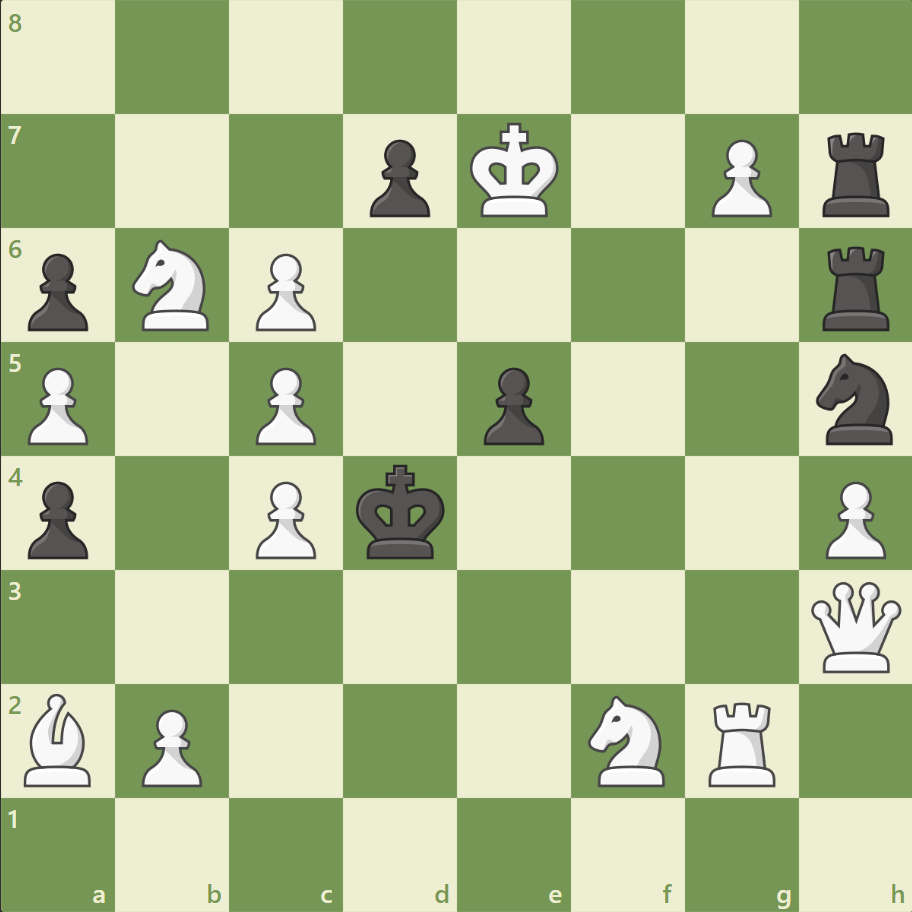B: (17, 687, 101, 790)
K: (465, 117, 565, 225)
N: (124, 234, 222, 337), (579, 688, 676, 791)
P: (701, 132, 776, 223), (247, 246, 322, 337), (20, 359, 95, 450), (247, 359, 322, 450), (247, 473, 322, 564), (133, 700, 208, 791), (815, 473, 889, 564)
Q: (805, 576, 904, 676)
R: (700, 693, 783, 790)
k: (351, 458, 451, 566)
n: (806, 348, 903, 450)
p: (20, 246, 95, 337), (474, 359, 549, 450), (20, 473, 95, 564), (361, 132, 435, 223)
r: (814, 125, 897, 222), (814, 239, 897, 336)
